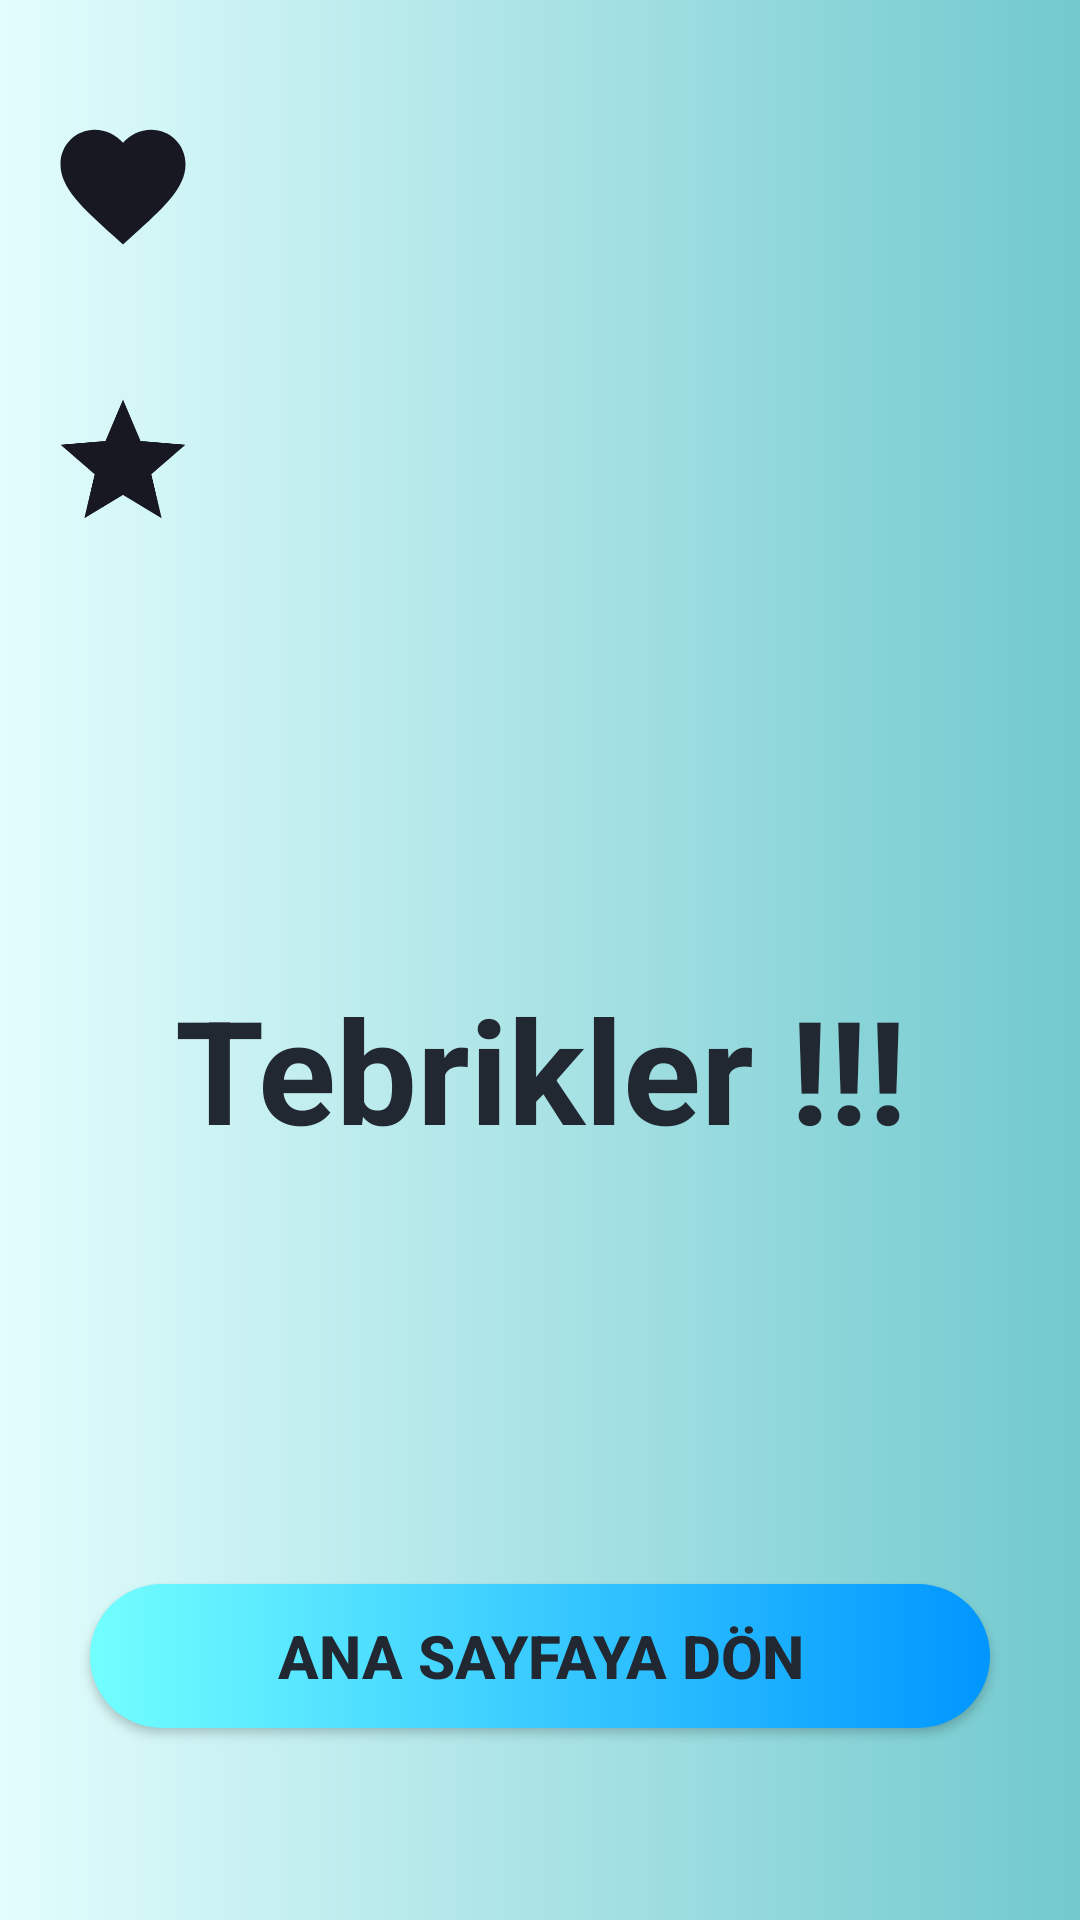

Icon bounding boxes for this 1080*1920 phone screenshot, format (x1, y1, x2, y2):
favorite: (60, 129, 186, 245)
grade: (61, 400, 185, 518)
